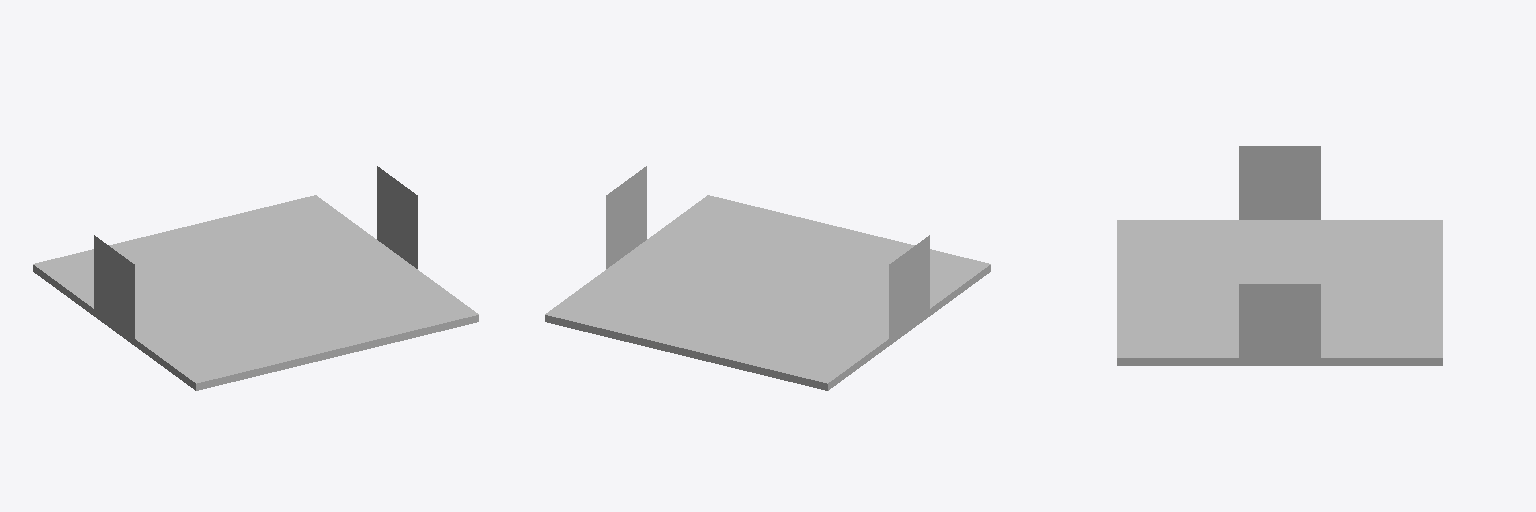
The model's file is emission.obj.
The picture shows the model from 3 angles: view 1: azimuth 30°, elevation 25°; view 2: azimuth 150°, elevation 25°; view 3: azimuth 270°, elevation 25°; orthographic projection.
Parts seen in each view (by area): view 1: default; view 2: default; view 3: default.
Part boxes in pixels (x1,y1,x2,y2): default: (33,166,478,390); default: (545,166,990,390); default: (1117,146,1442,365).
Bounding box in the file's own units: 400 × 110 × 400.